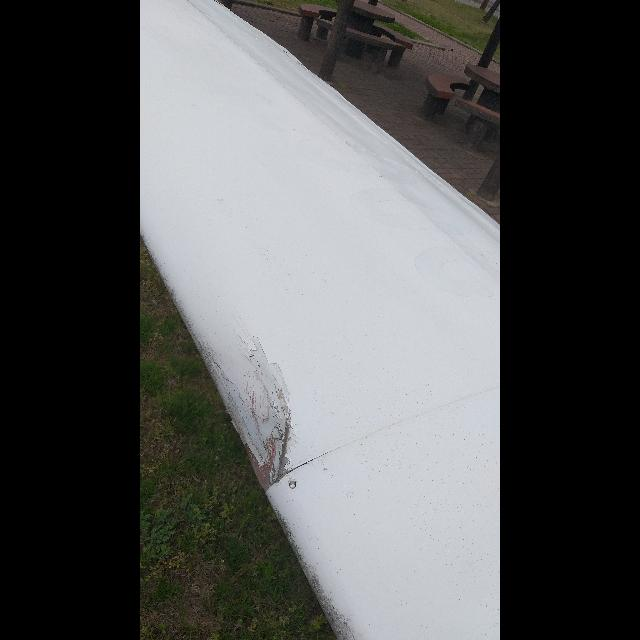dent: (224, 354, 300, 494)
